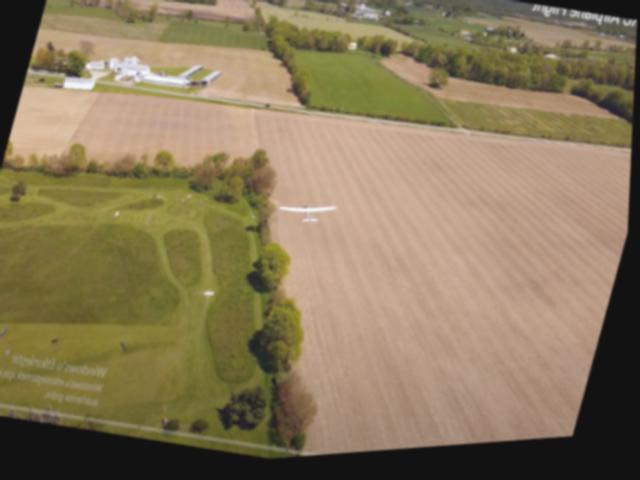plane: (277, 197, 341, 238)
